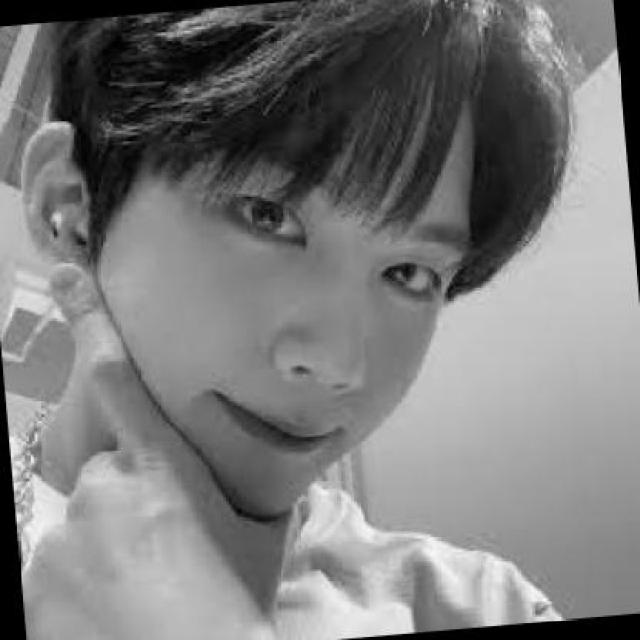earphone: (36, 173, 97, 260)
